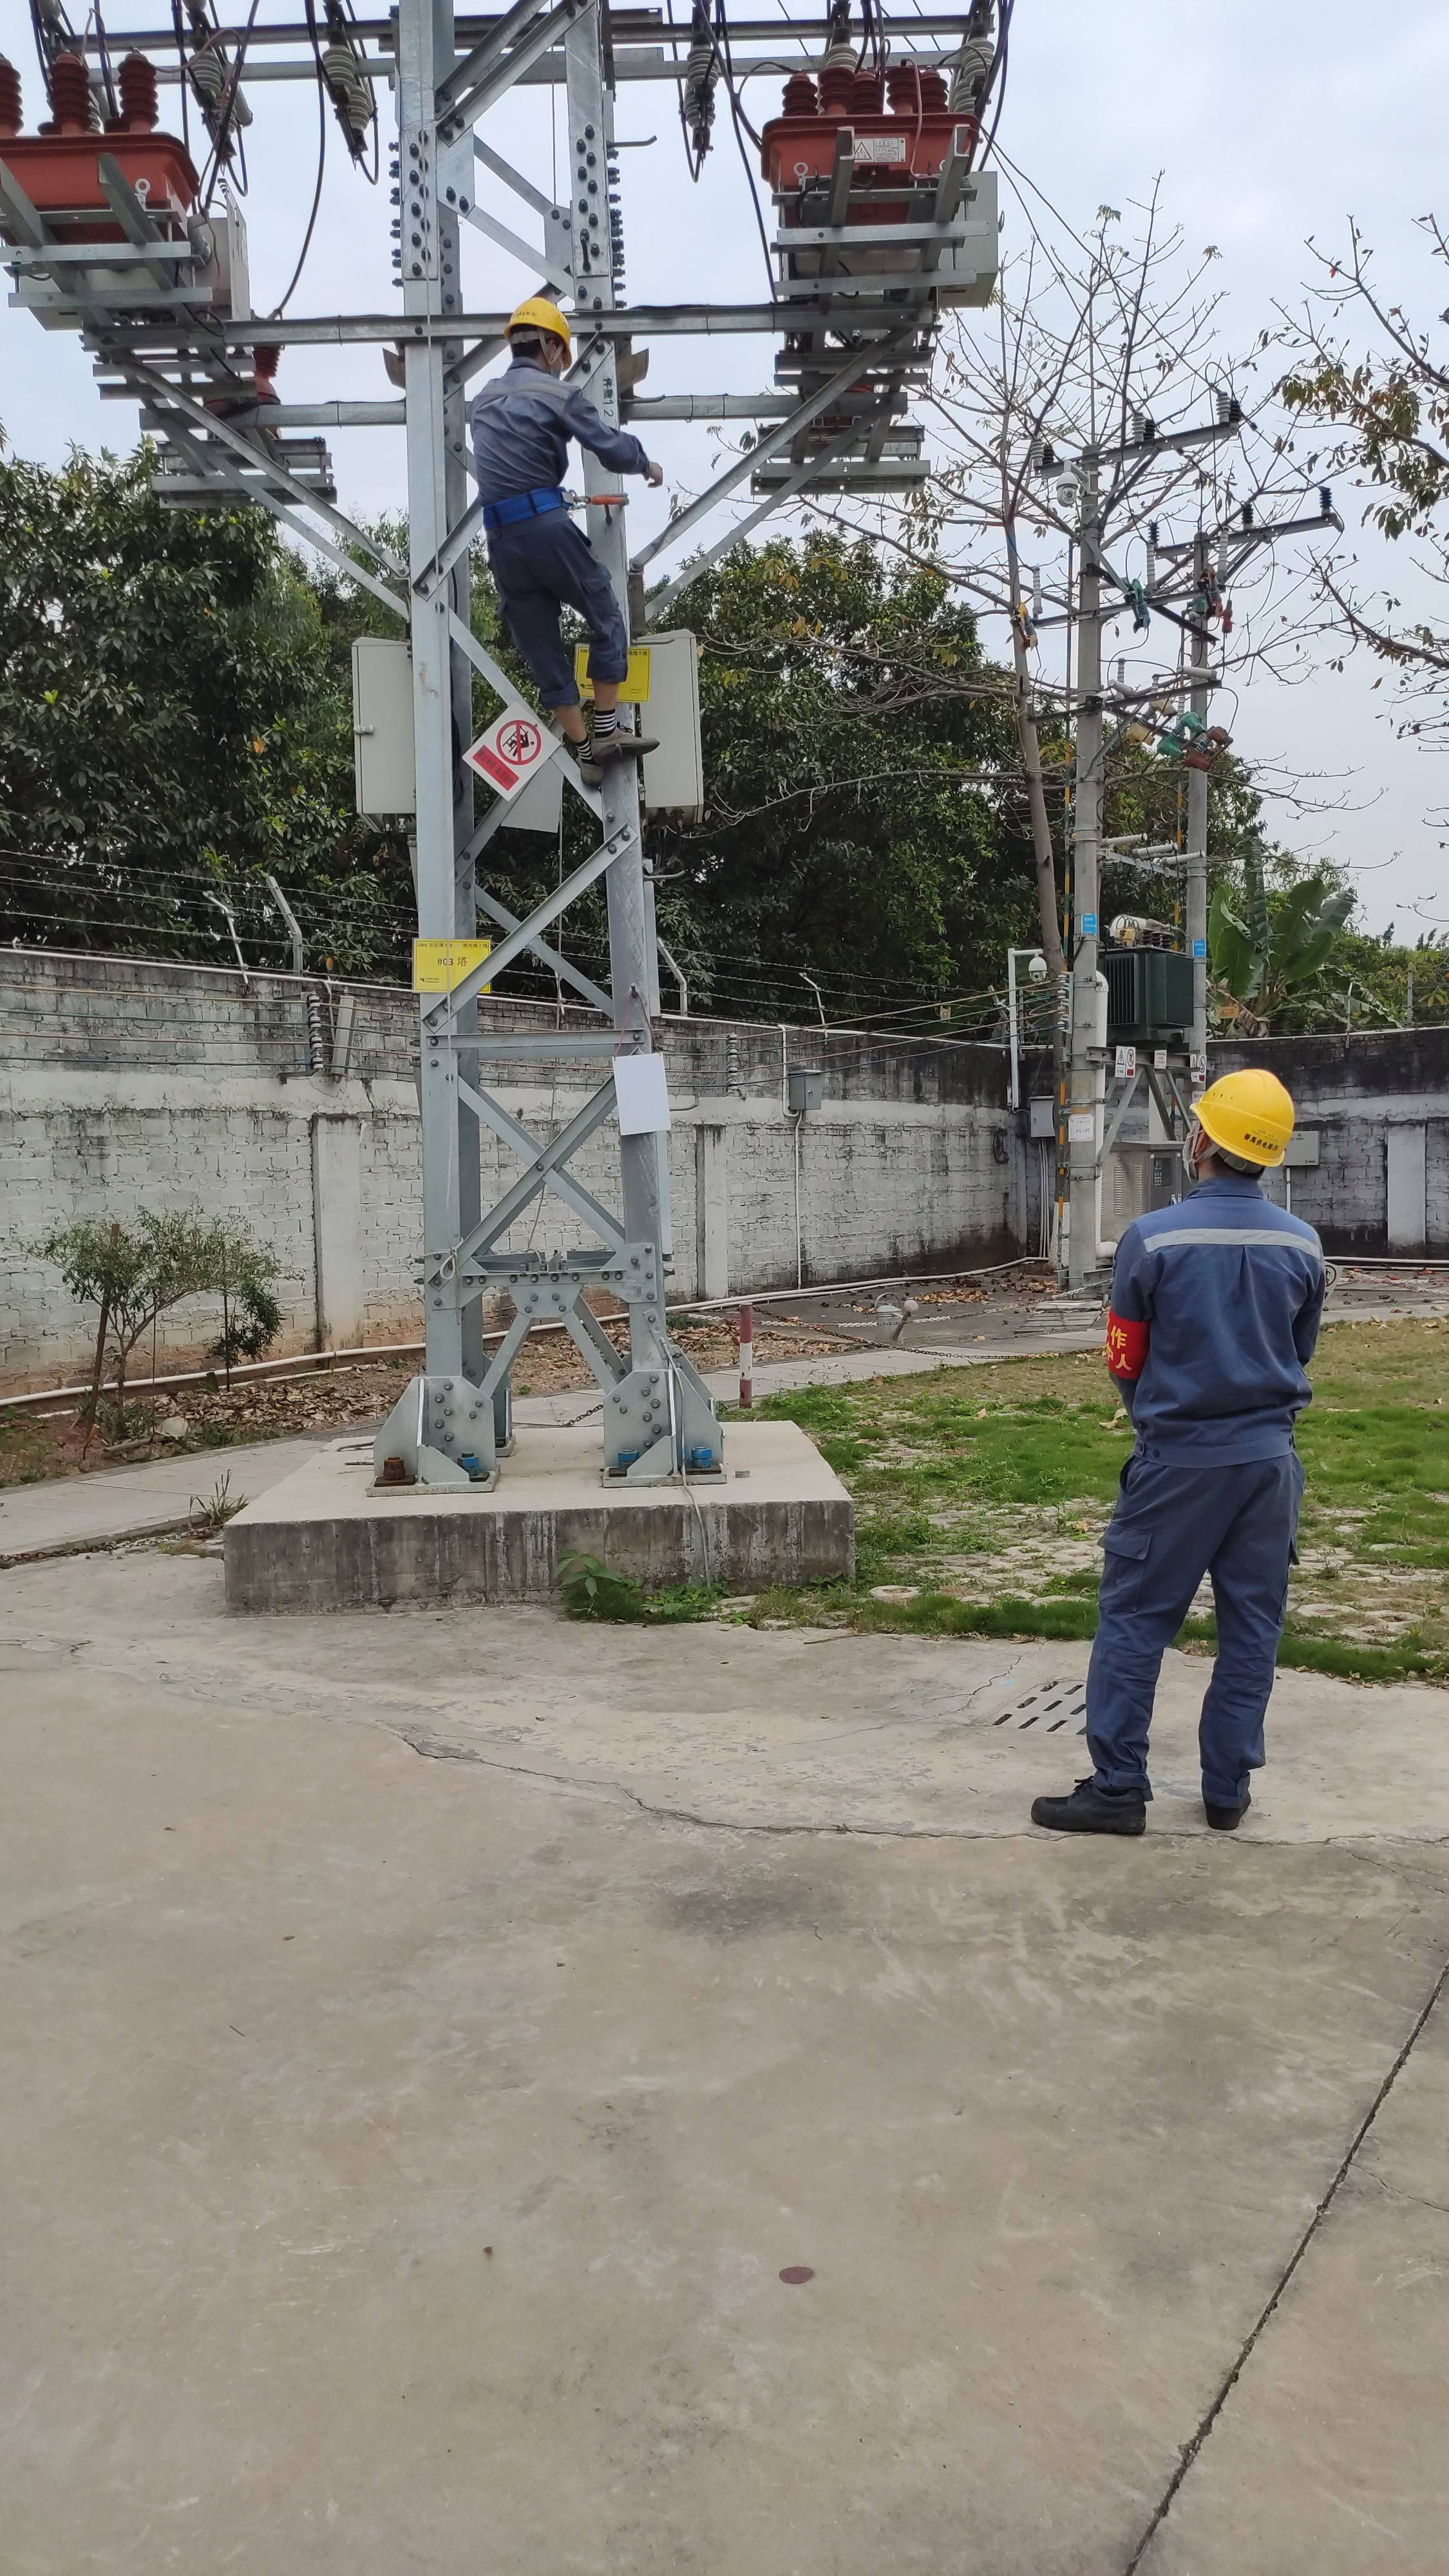downsuit: (1072, 1477, 1304, 1790), (488, 525, 633, 713)
upsuit: (1090, 1178, 1332, 1458), (471, 363, 640, 513)
wrongbottom: (548, 679, 589, 750), (589, 658, 628, 720)
